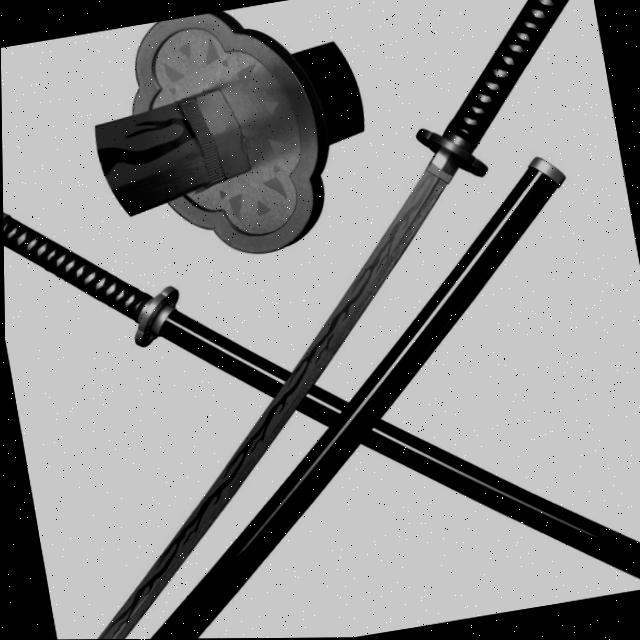knife: (0, 0, 640, 640), (1, 102, 640, 640)
